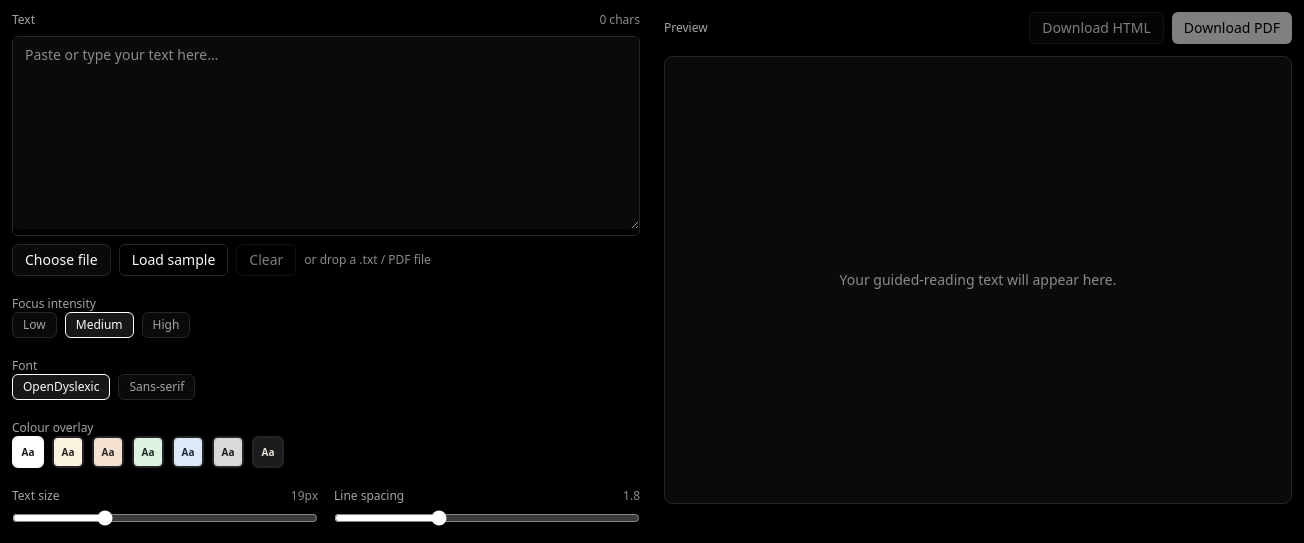
Test: ReadingFocusTool › renders bold word-heads in the preview after loading the sample
Click the button "Load sample" at (173, 260), box top-left (119, 244), bottom-right (228, 276)
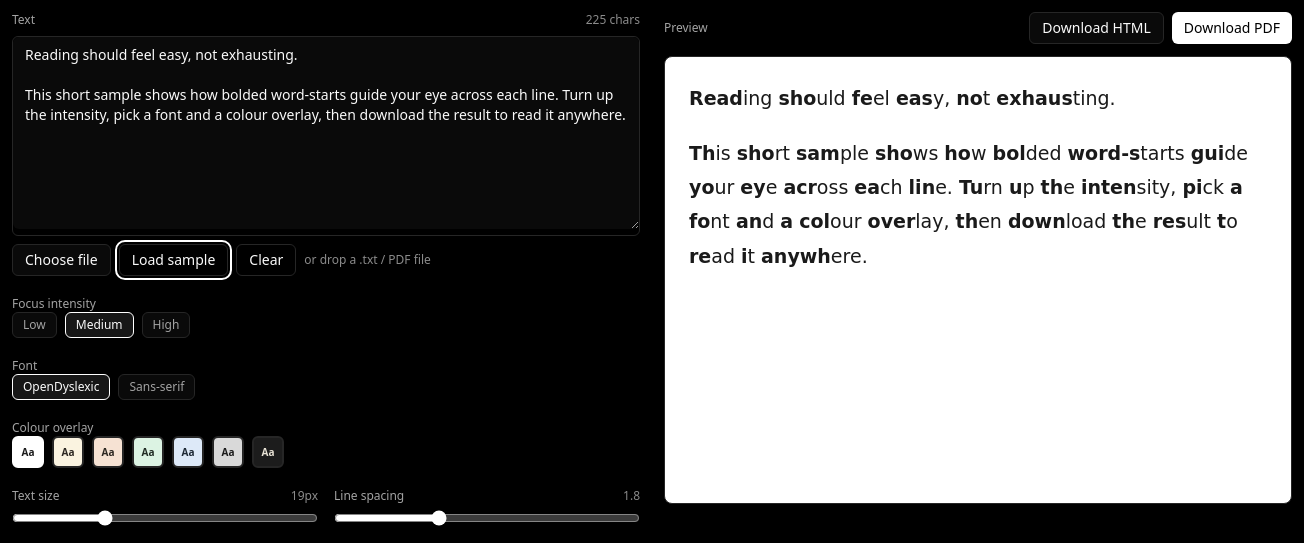
Now the text "Read" is shown, box top-left (689, 87), bottom-right (743, 109)
